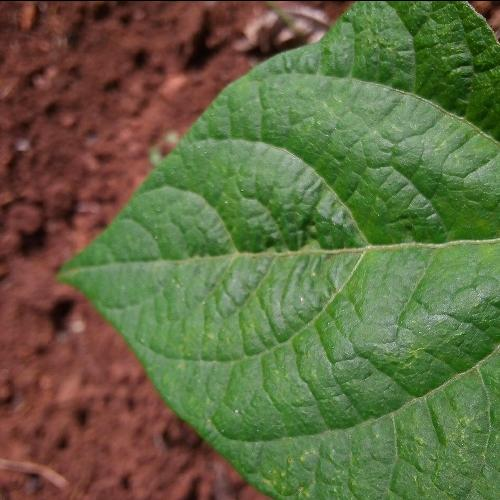sehat: (212, 106, 494, 476)
